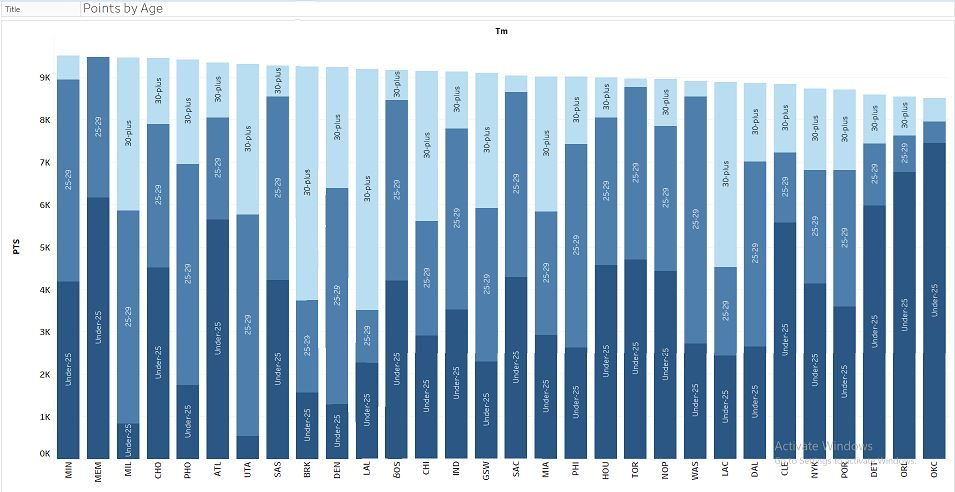

What the dashboard file says about the page in this screenshot:
{"tool":"tableau","page":{"name":"Picture","canvas":[1300,900],"ordinal":0},"visuals":[{"type":"image","param":"Image/perfect.JPG","box":[70,59,951,720]}]}

Visuals, with their boxes on the page's 1300x900 design canvas (x1, y1, x2, y2). These are canvas units, not pixel positions in the 955x492 screenshot, which may show the page scaled, cropped or inside an application window:
image: pyautogui.locateOnScreen(70, 59, 1021, 779)
